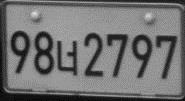2: (82, 31, 105, 78)
7: (104, 31, 129, 78), (155, 34, 178, 81)
8: (33, 30, 55, 75)
9: (130, 33, 153, 79), (9, 29, 31, 75)
너: (55, 38, 78, 78)
